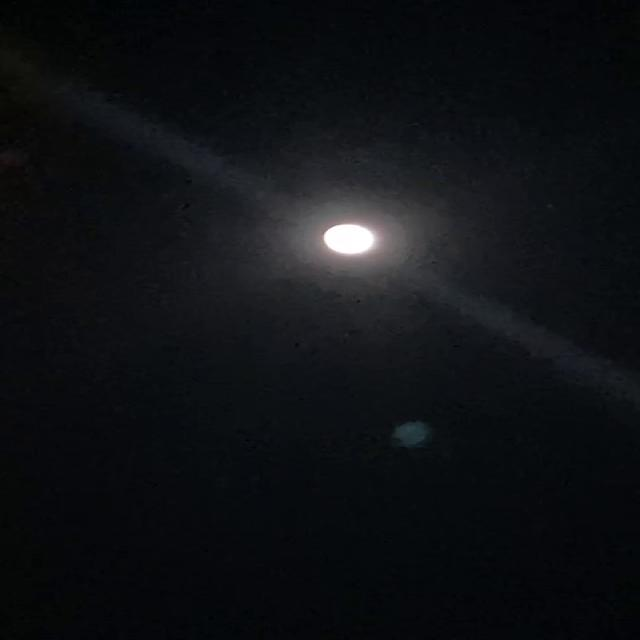moon: (288, 212, 392, 263)
